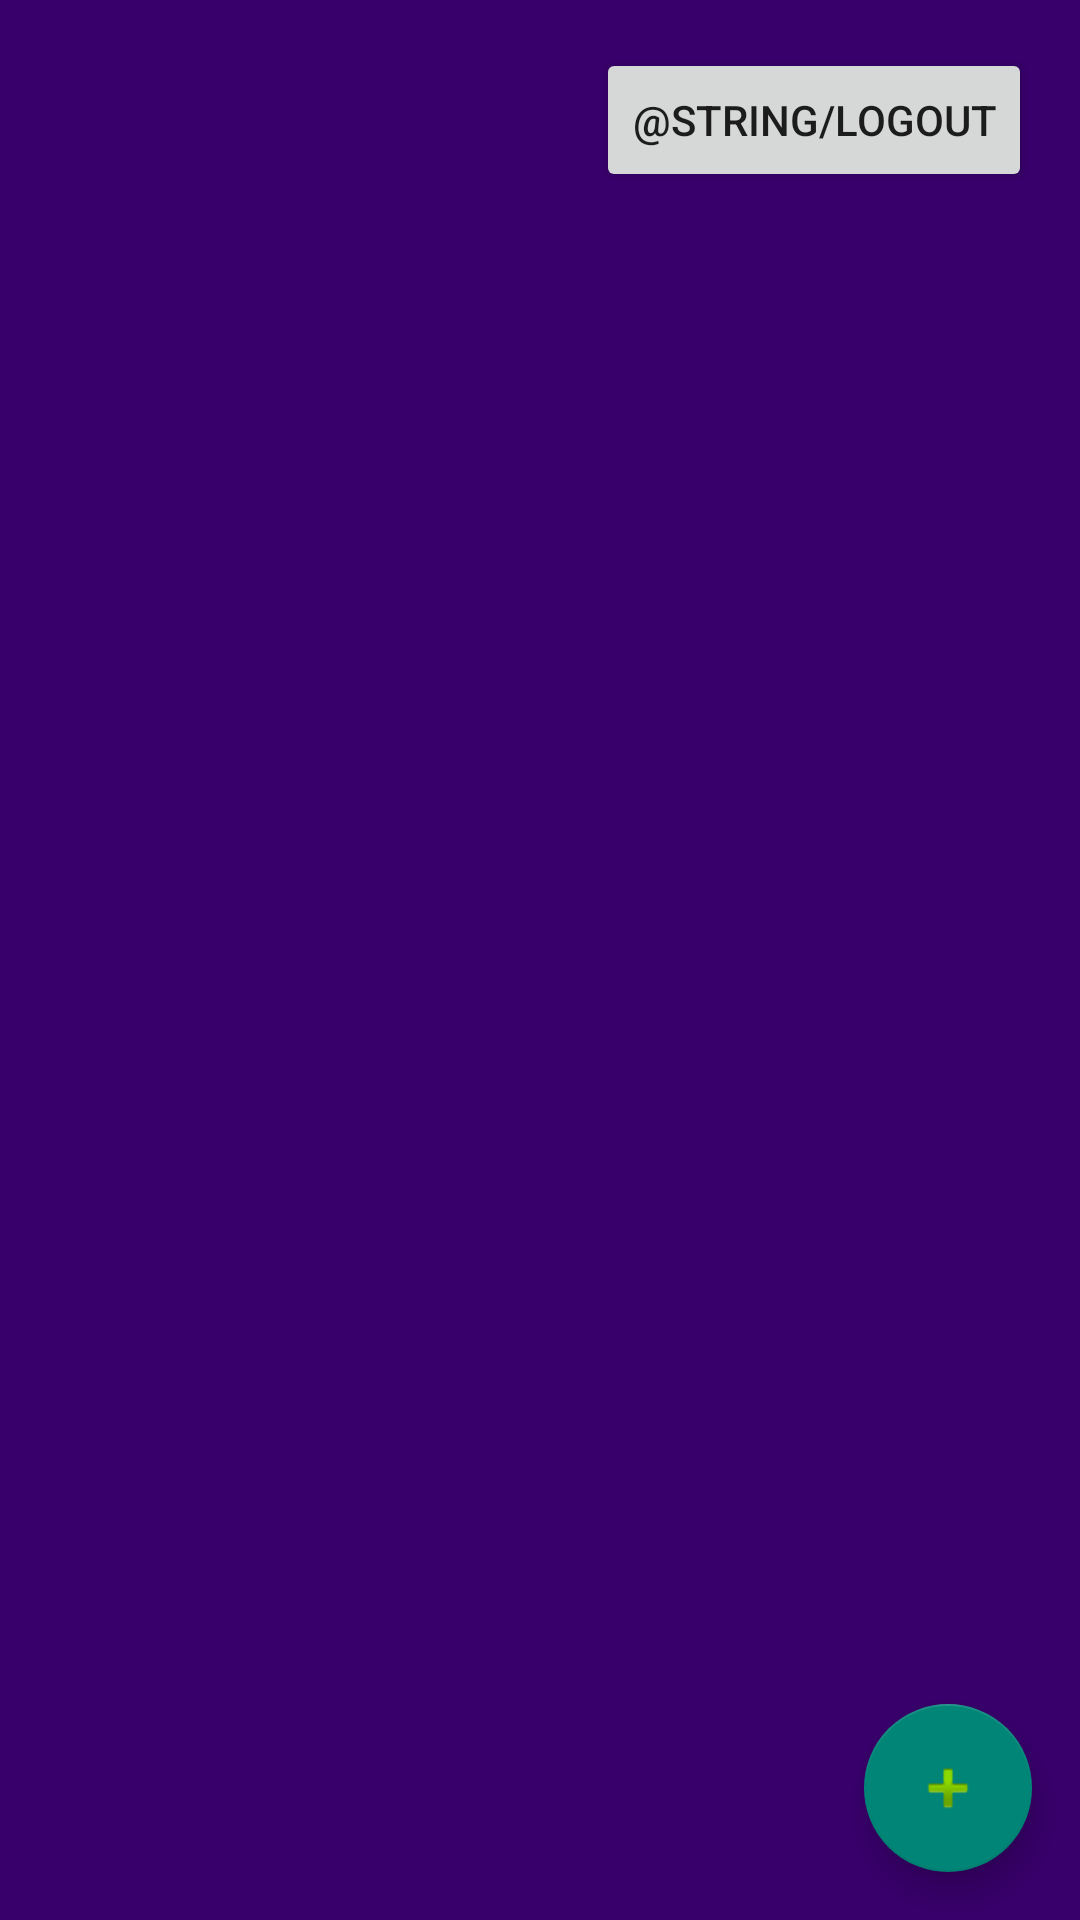

Icons on this 1080 x 1920 Android screen, each with the point to tap as (x,y):
Añadir nueva postura: (948,1788)
